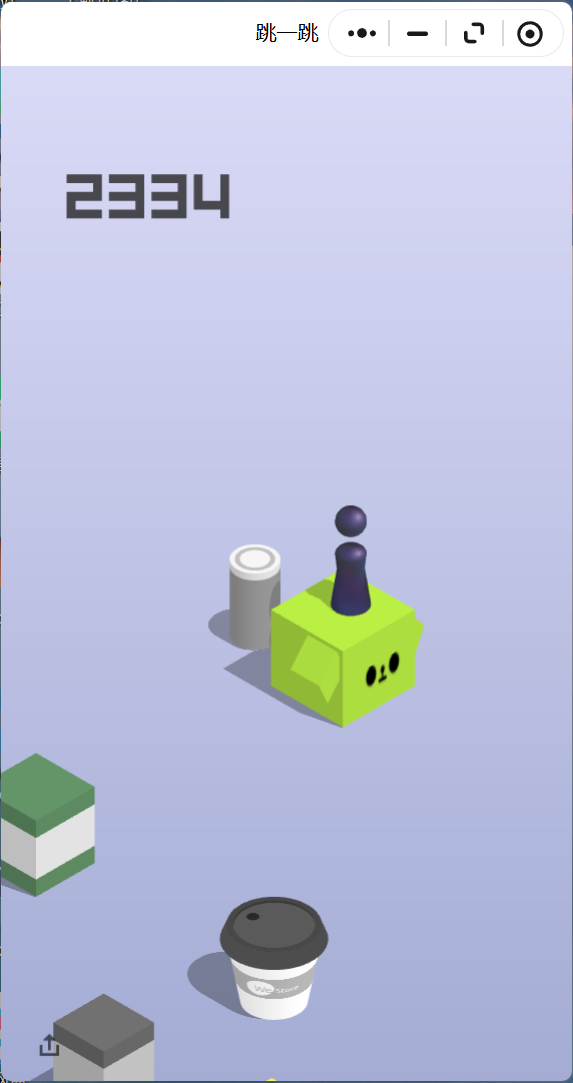piece: (334, 505, 366, 611)
target: (229, 543, 280, 574)
